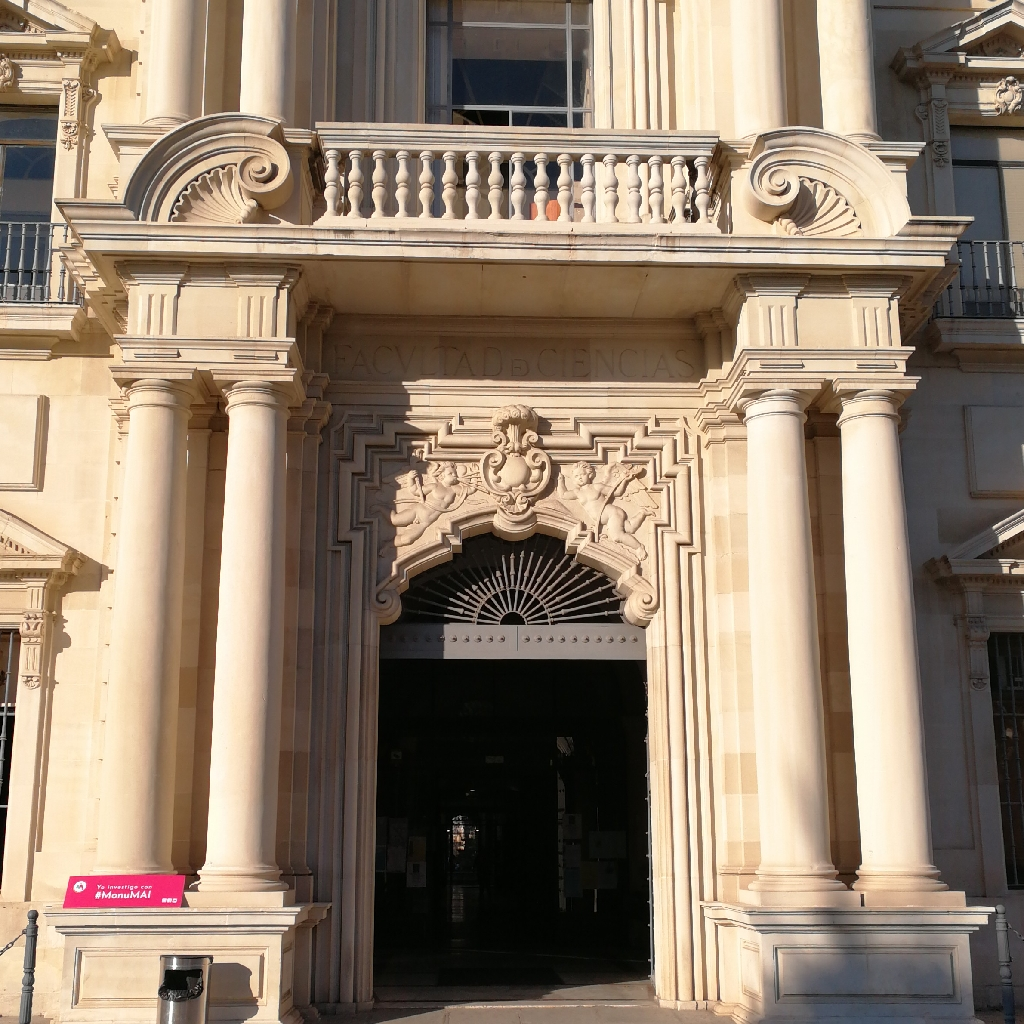fronton: (898, 1, 1024, 86)
fronton-partido: (116, 110, 923, 273)
